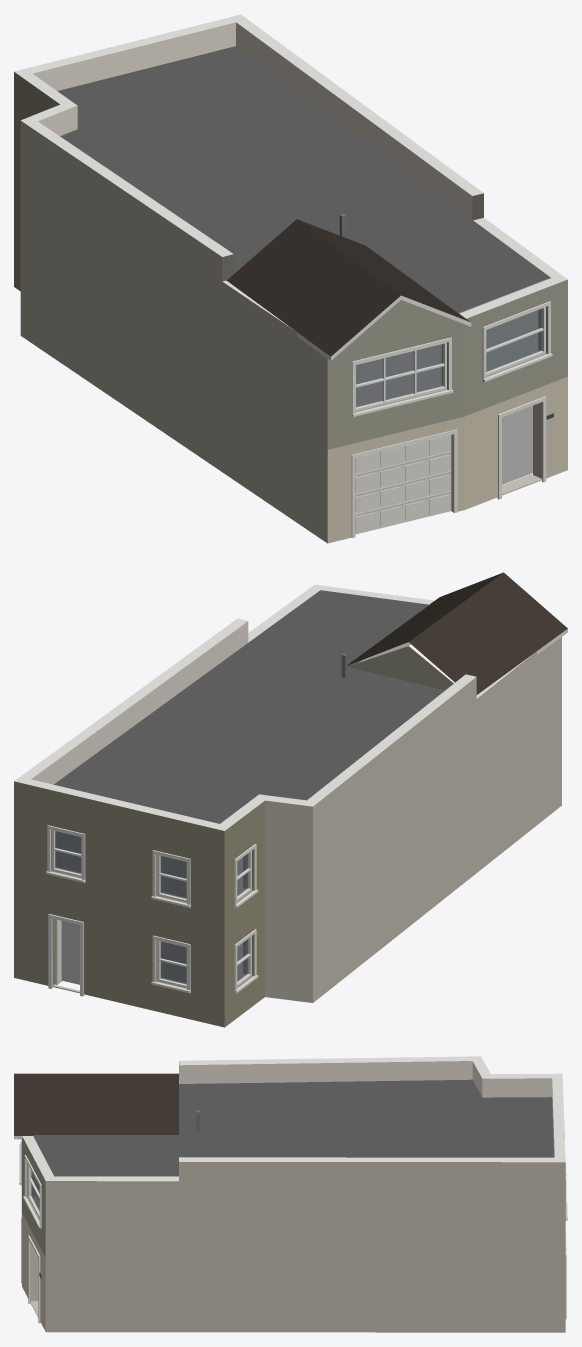
File: exterior.glb
3 renders of one model, top to bottom at view 1: azimuth 30°, elevation 25°; view 2: azimuth 150°, elevation 25°; view 3: azimuth 270°, elevation 25°, orthographic. The views are drawn at different scales.
Visible parts, largest first — view 1: shell, roof, doors, shadow-proxy, glazing, trim, frames, gable; view 2: shell, roof, trim, shadow-proxy, glazing, gable, frames; view 3: shell, roof, trim.
Part boxes in pixels (left/top/right/bottom): shell: left=14, top=14, right=567, bottom=543; roof: left=57, top=46, right=550, bottom=360; doors: left=351, top=429, right=542, bottom=537; shadow-proxy: left=356, top=279, right=547, bottom=484; glazing: left=356, top=309, right=541, bottom=407; trim: left=351, top=301, right=553, bottom=499; frames: left=355, top=307, right=545, bottom=411; gable: left=346, top=300, right=456, bottom=348; shell: left=14, top=584, right=561, bottom=1027; roof: left=54, top=572, right=567, bottom=823; trim: left=46, top=825, right=258, bottom=996; shadow-proxy: left=57, top=831, right=242, bottom=984; glazing: left=55, top=831, right=248, bottom=984; gable: left=347, top=646, right=453, bottom=690; frames: left=52, top=830, right=251, bottom=987; shell: left=22, top=1056, right=565, bottom=1332; roof: left=14, top=1073, right=553, bottom=1175; trim: left=19, top=1121, right=567, bottom=1323.
Bounding box in the file's own units: 7.97 × 6.58 × 17.61.
